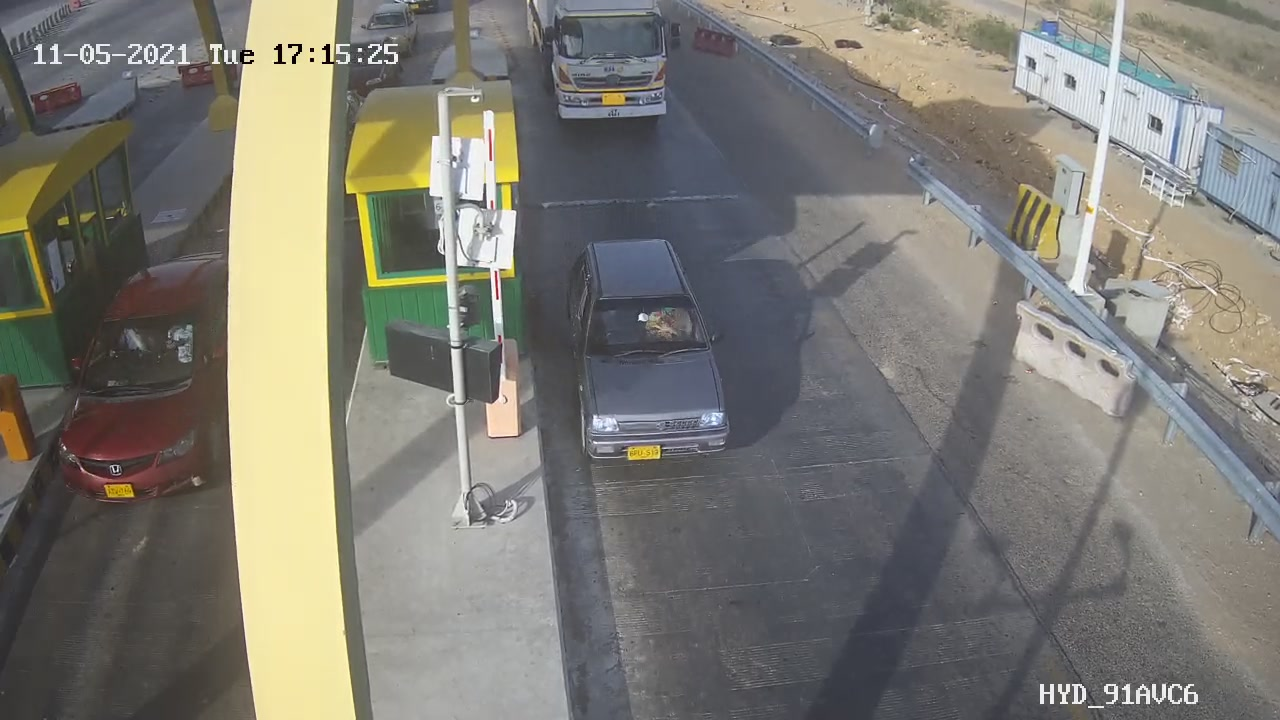F1: (543, 221, 755, 483)
